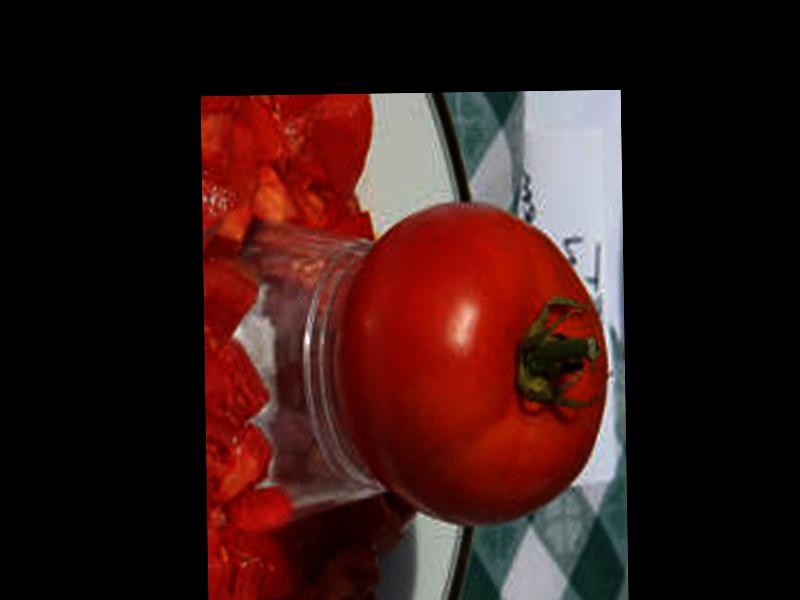Tomato: (338, 197, 612, 529)
